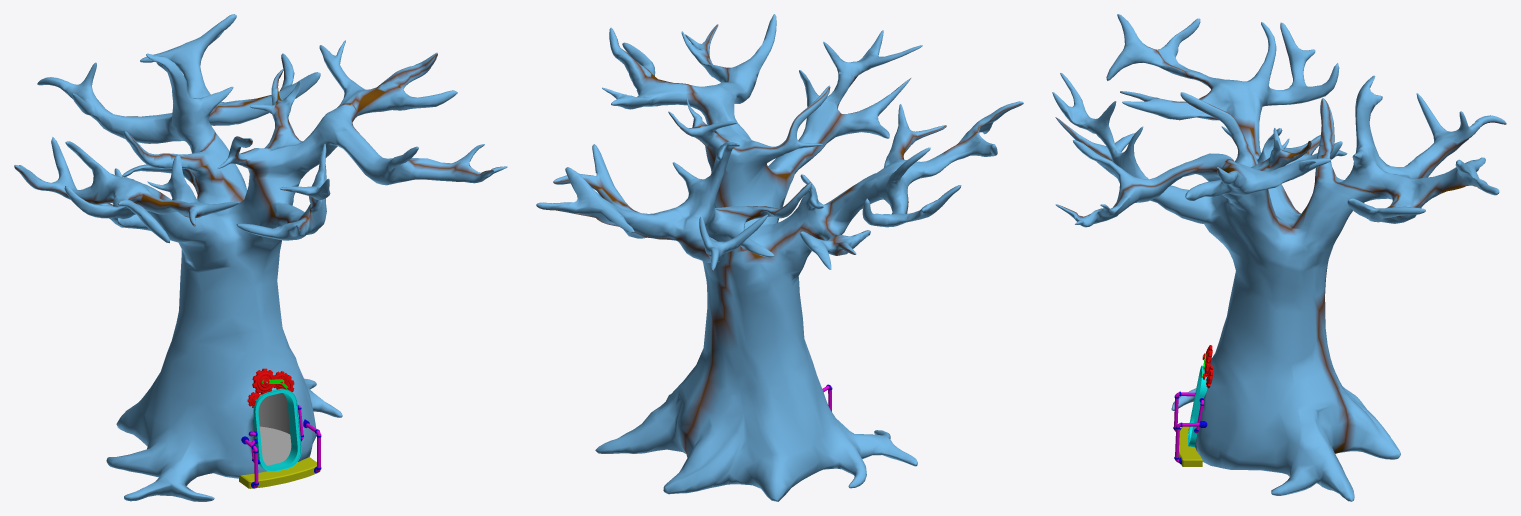
The model's file is Tree_1.fbx.
The picture shows the model from 3 angles, left to right: view 1: azimuth 30°, elevation 25°; view 2: azimuth 150°, elevation 25°; view 3: azimuth 270°, elevation 25°; orthographic projection. The views are drawn at different scales.
Visible parts, largest first — view 1: MainTree_low, Door_low; view 2: MainTree_low; view 3: MainTree_low, Door_low.
Boxes of the visible parts, x1,y1,x2,y2 form: MainTree_low: (14,14,507,501); Door_low: (239,368,321,488); MainTree_low: (536,14,1023,501); MainTree_low: (1052,14,1506,501); Door_low: (1173,345,1212,466).
Bounding box in the file's own units: 785 × 710 × 803.
